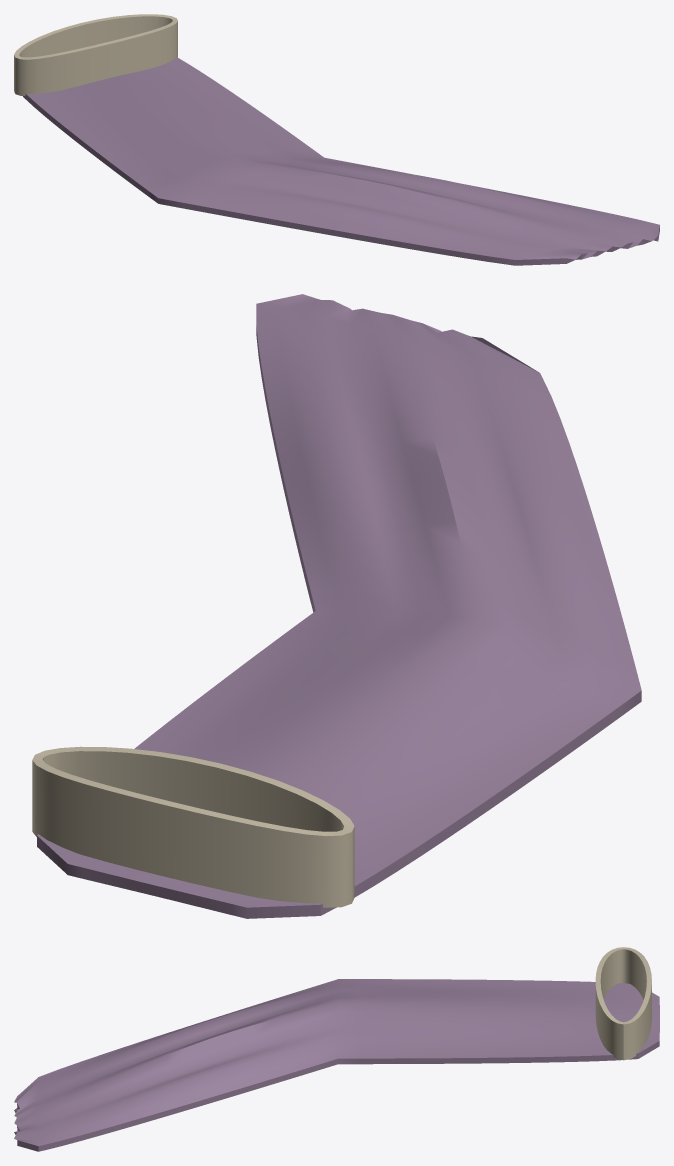
Rendered from sock-dropped-mint-04966eec6f34.glb.
3 renders of one model, top to bottom at view 1: azimuth 30°, elevation 25°; view 2: azimuth 150°, elevation 25°; view 3: azimuth 270°, elevation 25°, orthographic. The views are drawn at different scales.
Visible parts, largest first — view 1: cloth-lilac, cloth-cream; view 2: cloth-lilac, cloth-cream; view 3: cloth-lilac, cloth-cream.
Boxes of the visible parts, box(x1,y1,x2,y2) form: cloth-lilac: box(23, 57, 659, 265); cloth-cream: box(14, 14, 177, 95); cloth-lilac: box(37, 294, 641, 918); cloth-cream: box(32, 746, 354, 907); cloth-lilac: box(14, 979, 659, 1151); cloth-cream: box(595, 947, 651, 1060).
Size of the model in its own units: 0.158 by 0.019 by 0.258.
